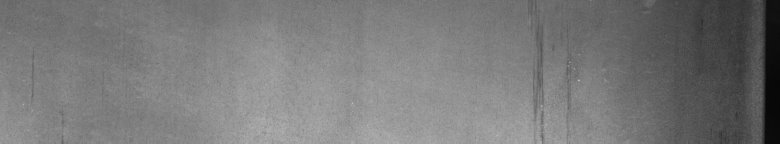ka: (532, 30, 575, 136)
